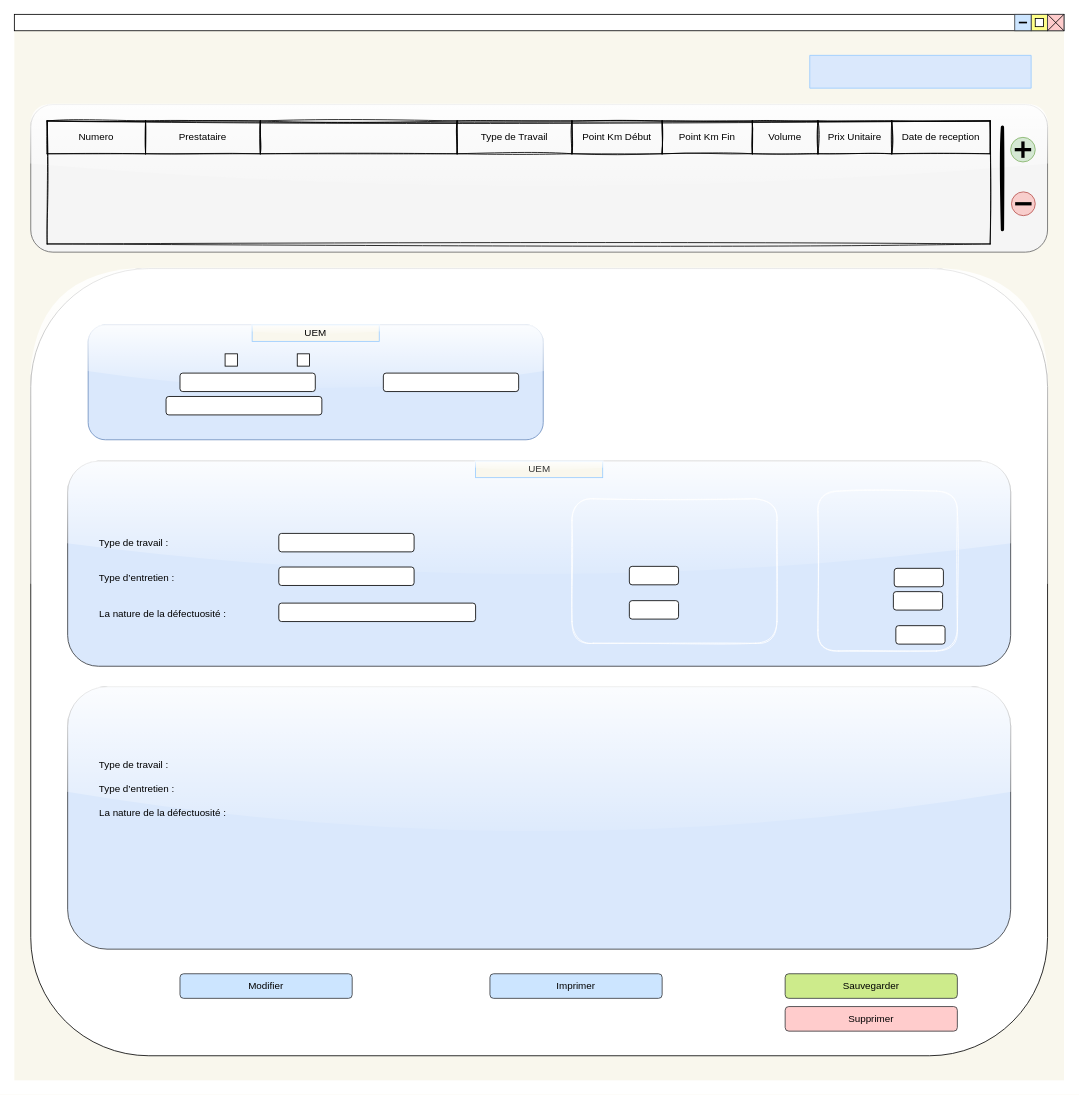
The diagram is 1079 pixels wide and 1095 high, and some of its shapes have lost their labels. Each missing label, with the box of its shape:
Accés UEM : Canal Tous Type de canal : Canal : Code UEM :: (87, 324, 543, 440)
Année: (809, 55, 1031, 88)
Code UEM: (260, 120, 457, 154)
Kilomètres : Début Fin: (571, 498, 777, 643)
Maintenance: (14, 14, 1064, 31)
Montant : Prix unitaire Quantité Montant total :: (817, 490, 957, 651)
